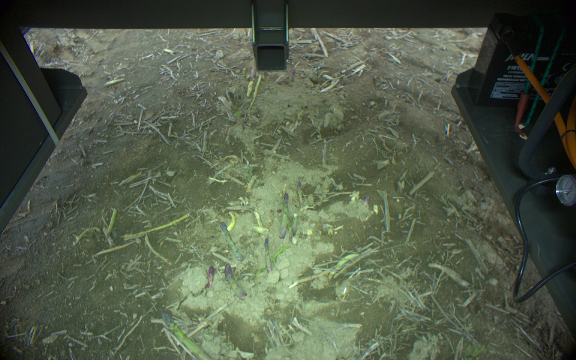aspa: (158, 309, 209, 360), (223, 262, 248, 300), (218, 220, 240, 260), (227, 90, 243, 129), (278, 191, 290, 237), (263, 238, 274, 272), (203, 264, 216, 289), (296, 180, 306, 207), (291, 213, 300, 238), (245, 78, 253, 99)
